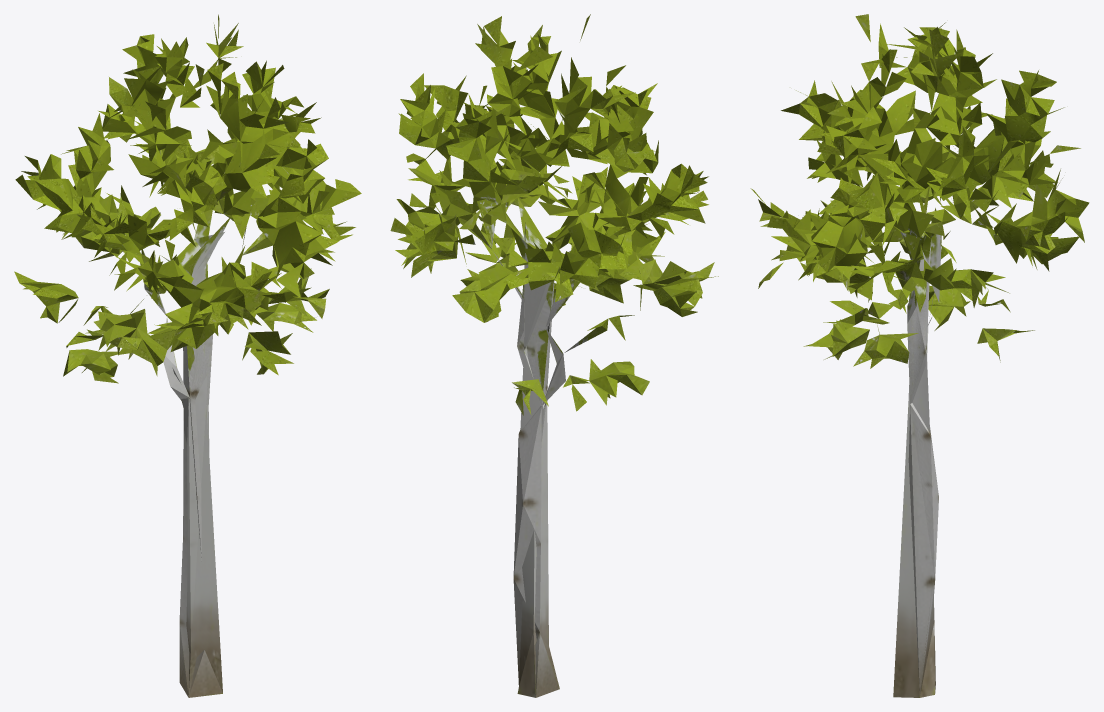
Rendered from aspen.glb.
3 renders of one model, left to right at view 1: azimuth 30°, elevation 25°; view 2: azimuth 150°, elevation 25°; view 3: azimuth 270°, elevation 25°, orthographic. The views are drawn at different scales.
Visible parts, largest first — view 1: output_unwrapped; view 2: output_unwrapped; view 3: output_unwrapped.
Boxes of the visible parts, x1,y1,x2,y2 form: output_unwrapped: [14, 14, 361, 697]; output_unwrapped: [390, 14, 718, 697]; output_unwrapped: [750, 14, 1089, 697].
Size of the model in its own units: 0.9203 by 1.84 by 0.8369.
1 material, 1 textured.
